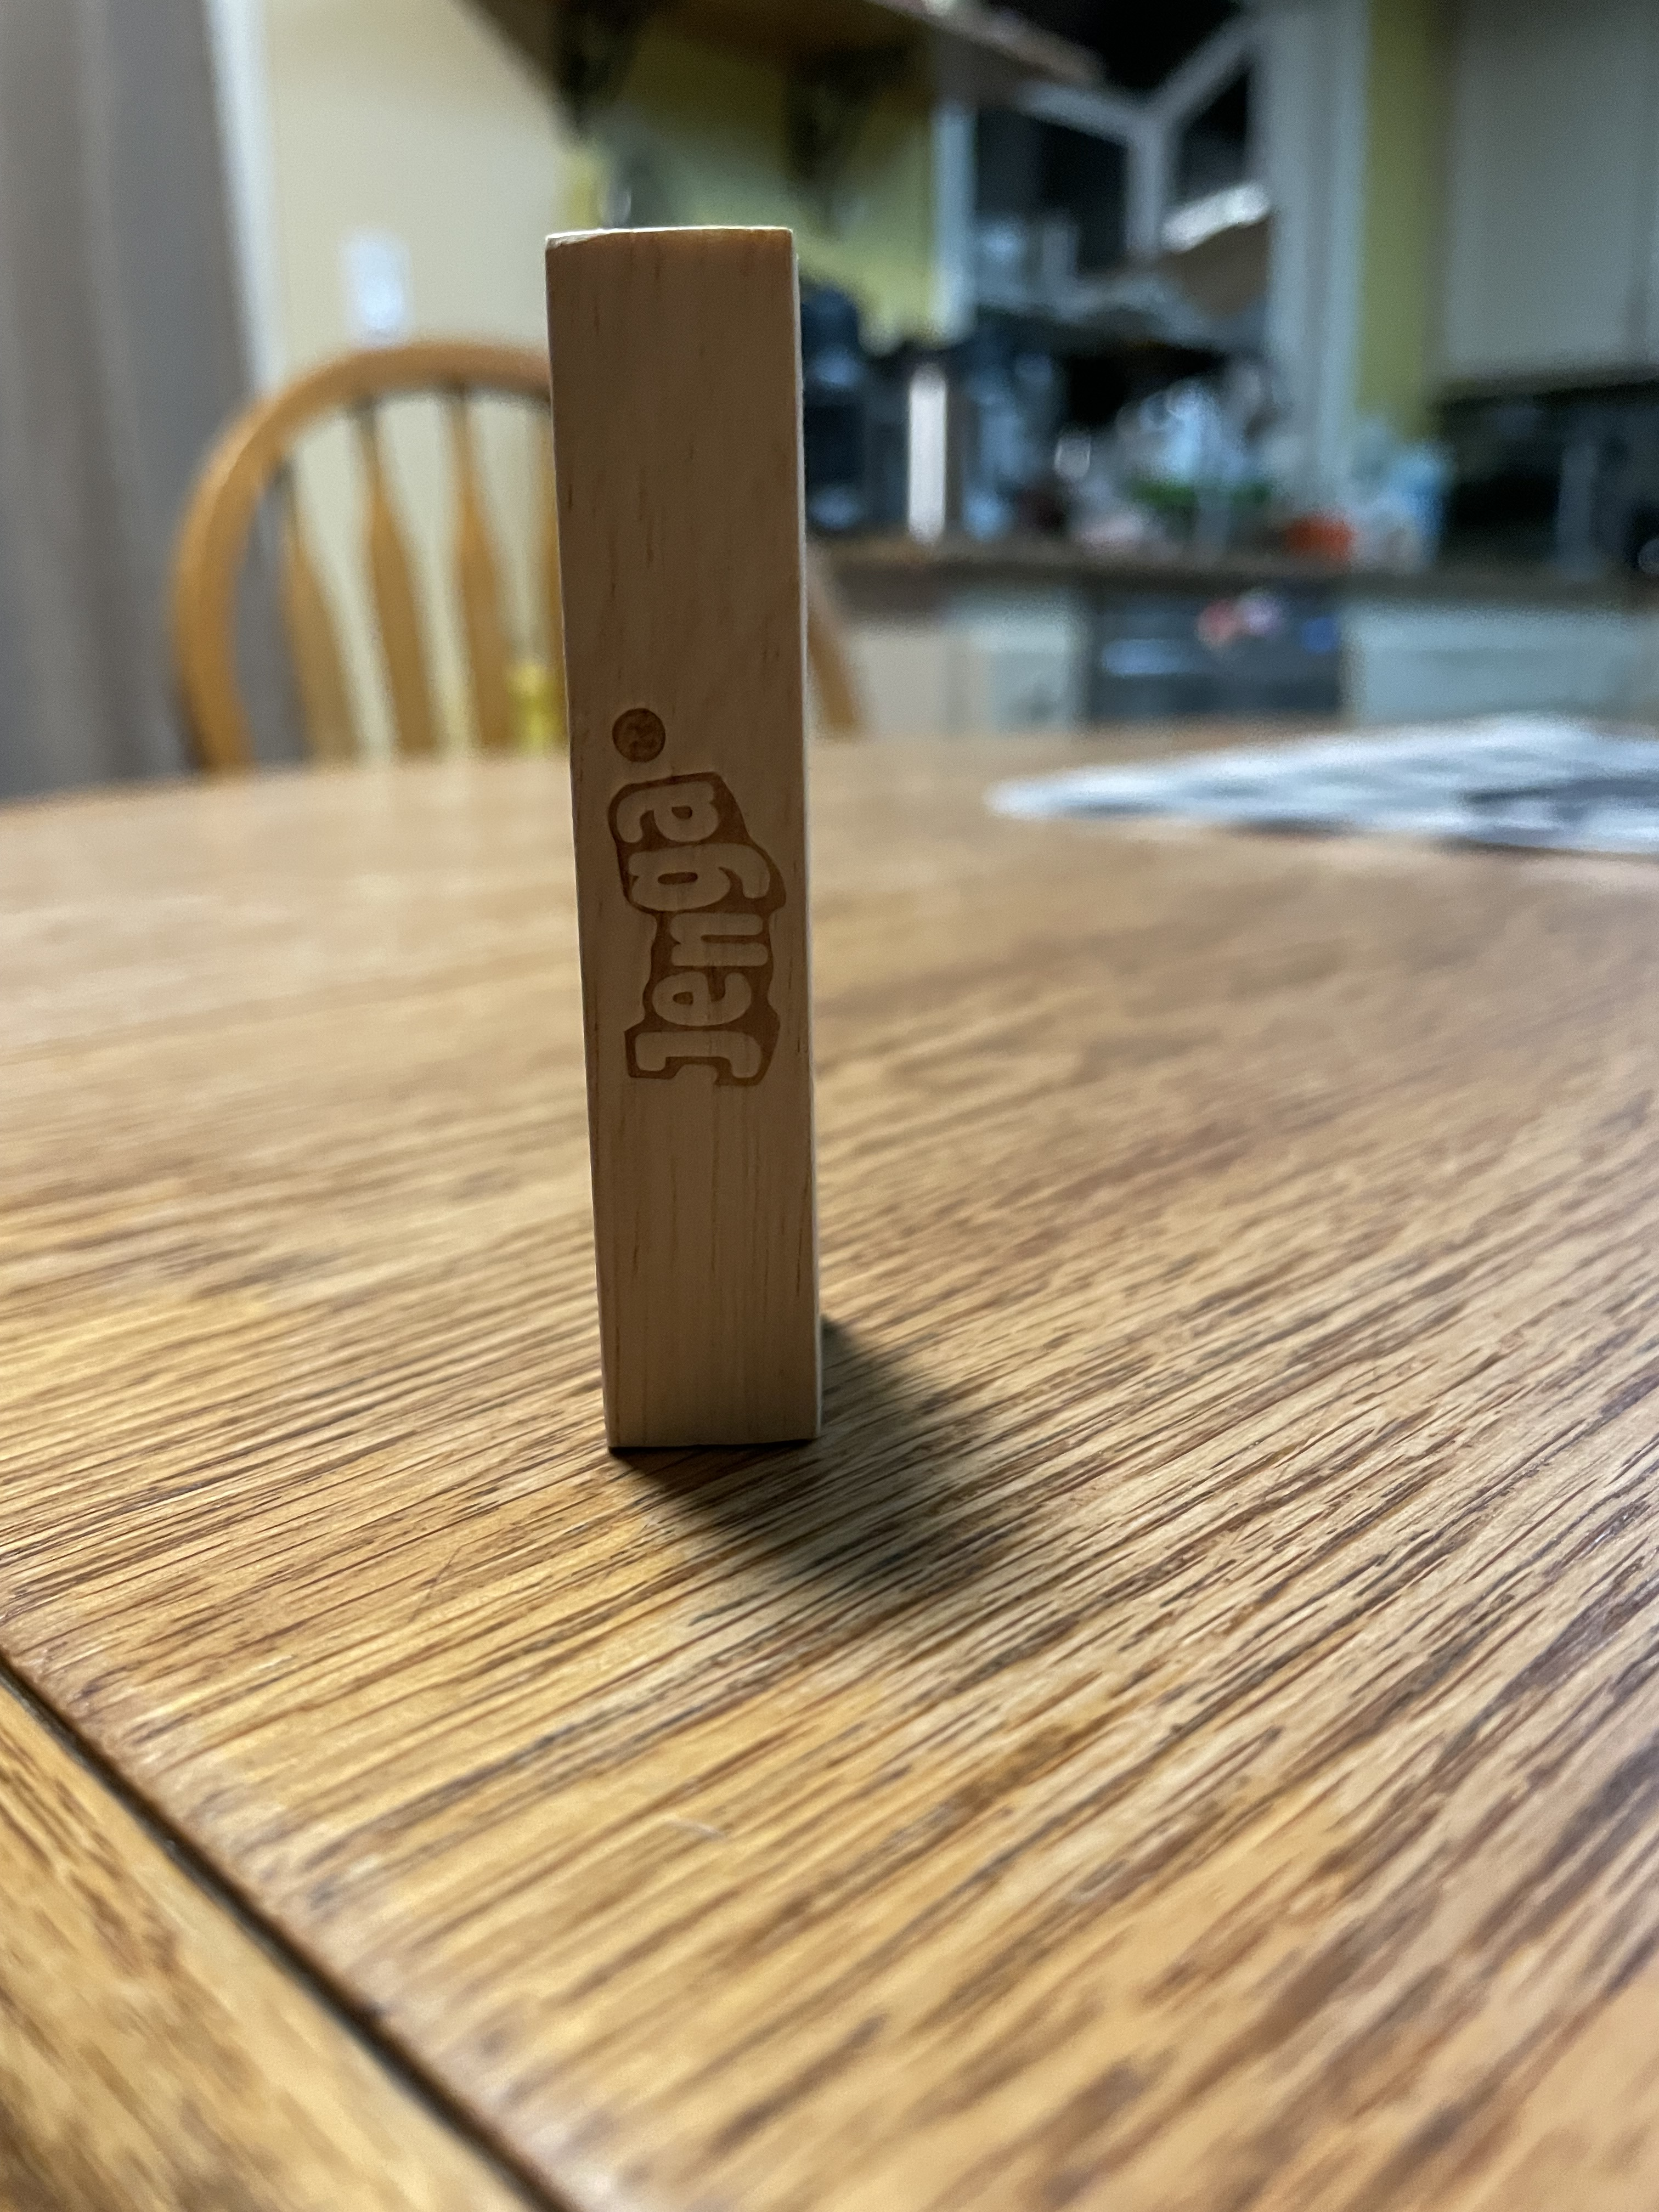jenga: (526, 212, 840, 1444)
